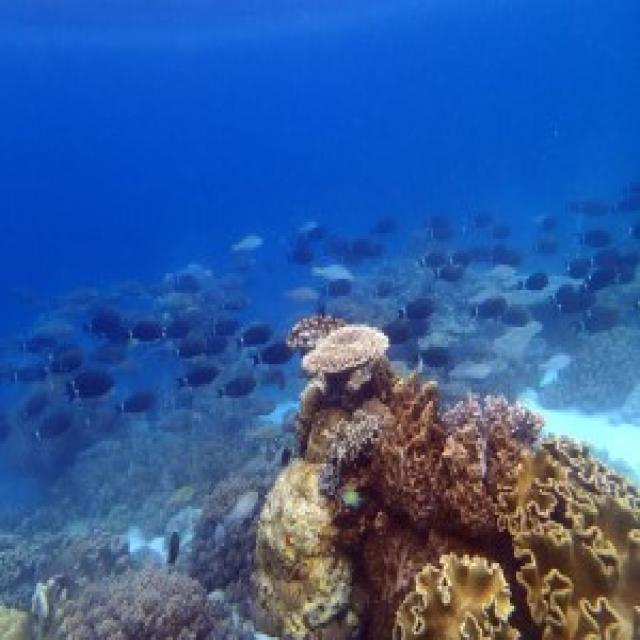Bleached: (304, 325, 389, 374)
Healthy: (257, 379, 364, 635), (511, 439, 639, 638), (383, 411, 524, 539), (59, 564, 238, 638), (398, 556, 517, 638)
